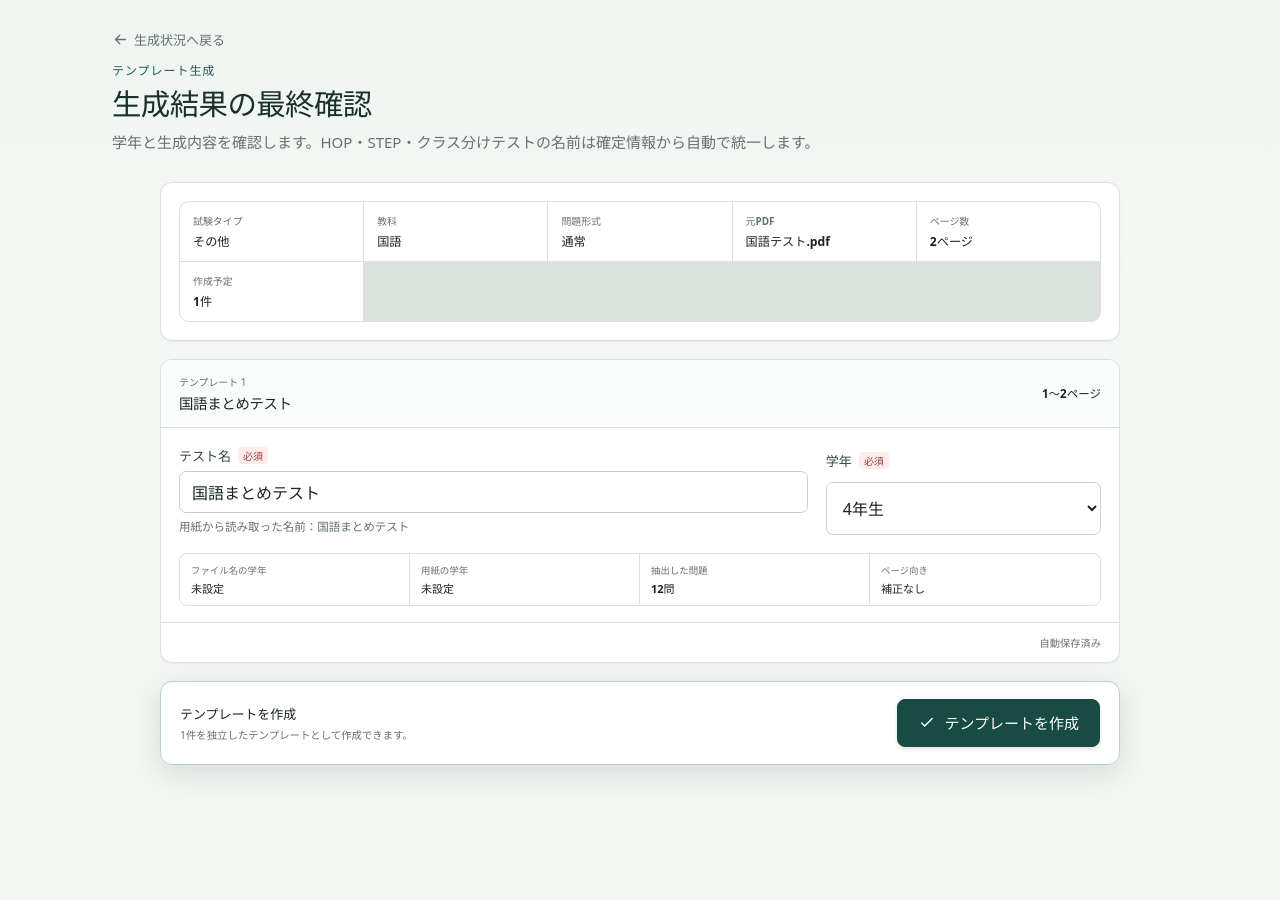
it: TemplateGenerationFinalCheckPage › autosaves edits and surfaces a row-version conflict without discarding them
Replace the text in the field labelled "テスト名" with "新しい名前" at (493, 492), box [179,471,808,513]
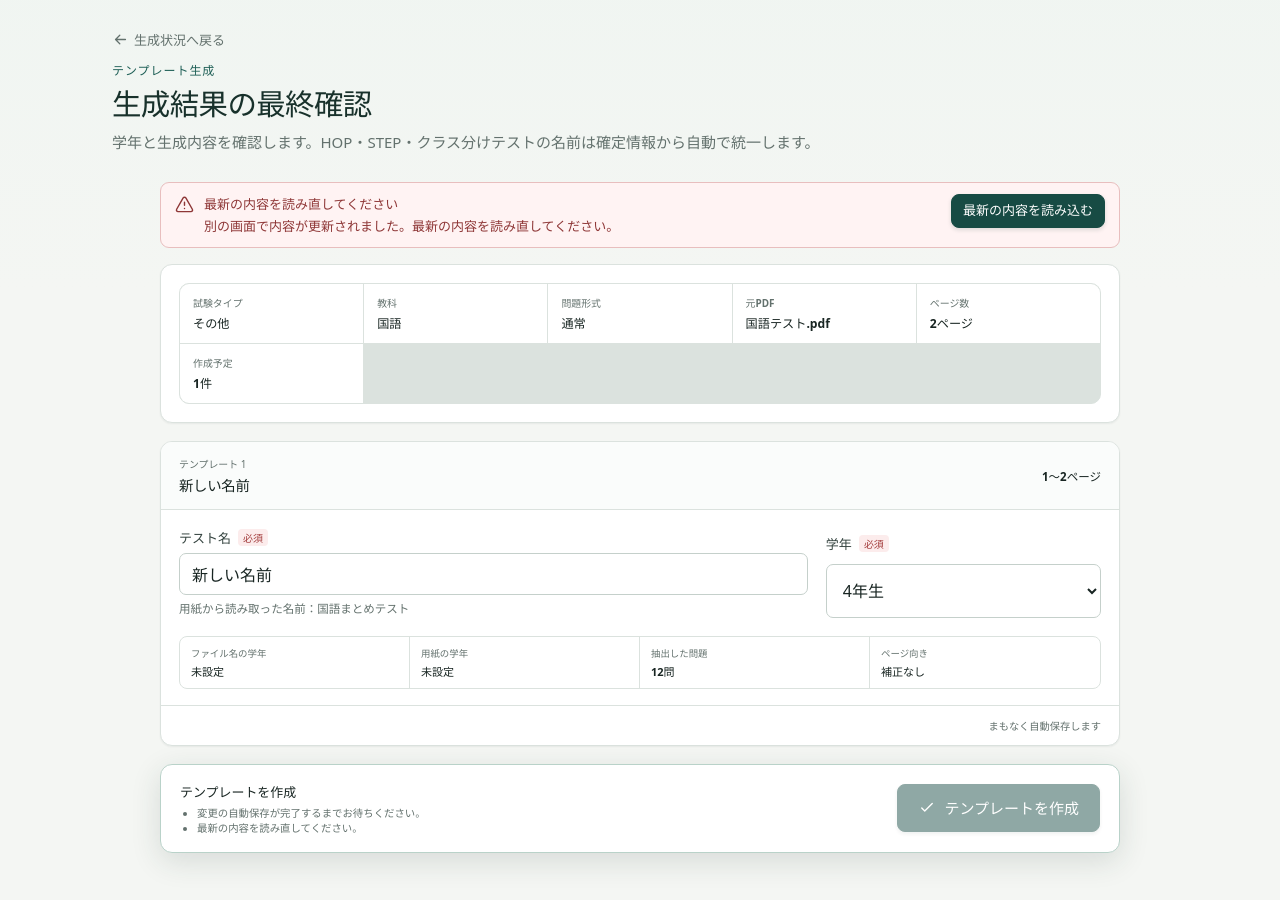
Now the text "別の画面で内容が更新されました。最新の内容を読み直してください。" is shown, box [204,217,619,235]
Now the button "最新の内容を読み込む" is enabled, box [951,194,1105,228]
